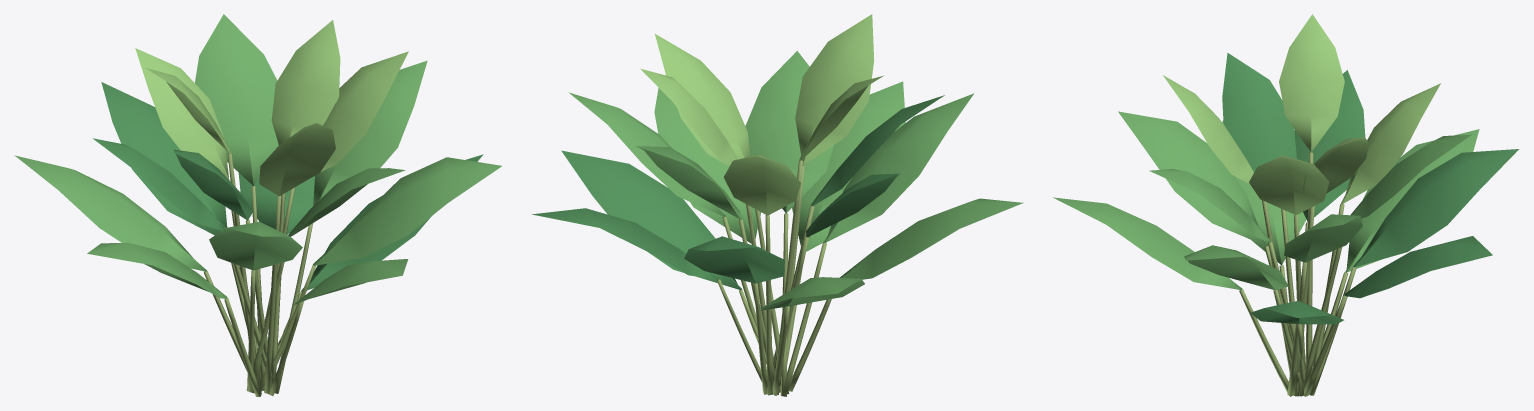
File: SM_PlantPotLod1.fbx
The picture shows the model from 3 angles, left to right: view 1: azimuth 30°, elevation 25°; view 2: azimuth 150°, elevation 25°; view 3: azimuth 270°, elevation 25°; orthographic projection. The views are drawn at different scales.
Visible parts, largest first — view 1: PlantPotLod1; view 2: PlantPotLod1; view 3: PlantPotLod1.
Boxes of the visible parts, x1=… form: PlantPotLod1: x1=14, y1=14, x2=501, y2=396; PlantPotLod1: x1=532, y1=14, x2=1023, y2=396; PlantPotLod1: x1=1053, y1=14, x2=1518, y2=396.
Size of the model in its own units: 1.27 by 0.9851 by 1.27.
